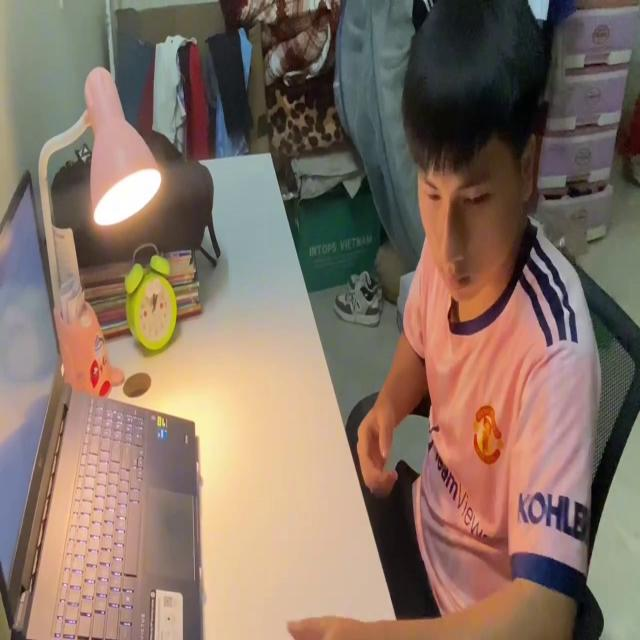laptop: (0, 164, 204, 640)
student: (282, 0, 602, 640)
